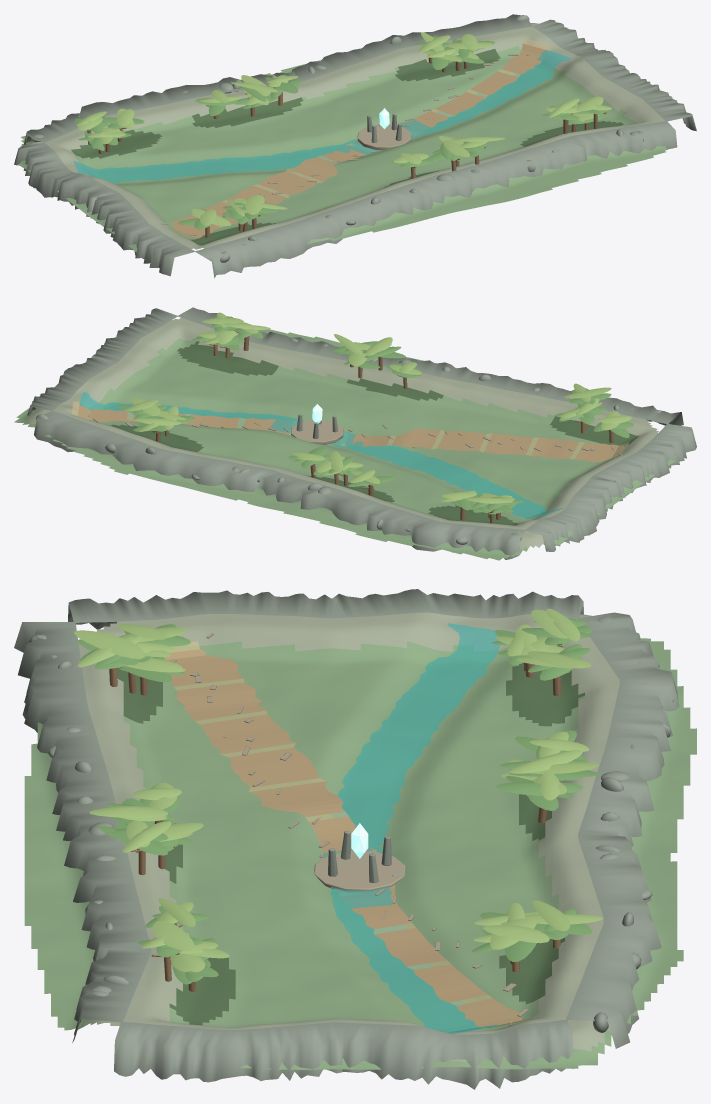
Rendered from moba_quality_chunk.glb.
3 renders of one model, top to bottom at view 1: azimuth 30°, elevation 25°; view 2: azimuth 150°, elevation 25°; view 3: azimuth 270°, elevation 25°, orthographic. The views are drawn at different scales.
Visible parts, largest first — view 1: authored_sculpted_terrain_continuous, authored_south_sculpted_cliff_wall, authored_west_sculpted_cliff_wall, authored_river_shallow_transparent_ribbon, authored_lane_worn_designed_ribbon, authored_north_sculpted_cliff_wall, authored_east_sculpted_cliff_wall, authored_central_objective_carved_base; view 2: authored_sculpted_terrain_continuous, authored_north_sculpted_cliff_wall, authored_lane_worn_designed_ribbon, authored_west_sculpted_cliff_wall, authored_south_sculpted_cliff_wall, authored_river_shallow_transparent_ribbon, authored_east_sculpted_cliff_wall, authored_central_objective_carved_base; view 3: authored_sculpted_terrain_continuous, authored_north_sculpted_cliff_wall, authored_east_sculpted_cliff_wall, authored_south_sculpted_cliff_wall, authored_lane_worn_designed_ribbon, authored_river_shallow_transparent_ribbon, authored_west_sculpted_cliff_wall, authored_central_objective_carved_base, authored_tree_sculpted_leaf_plate.079, authored_tree_sculpted_leaf_plate.119, authored_tree_sculpted_leaf_plate.034, authored_tree_sculpted_leaf_plate.059 (+1 smaller).
Part boxes in pixels (box(x1,y1,x2,y2)): authored_sculpted_terrain_continuous: box(18, 23, 667, 252); authored_south_sculpted_cliff_wall: box(195, 121, 677, 278); authored_west_sculpted_cliff_wall: box(14, 143, 194, 276); authored_river_shallow_transparent_ribbon: box(73, 50, 570, 182); authored_lane_worn_designed_ribbon: box(171, 38, 550, 238); authored_north_sculpted_cliff_wall: box(24, 14, 532, 144); authored_east_sculpted_cliff_wall: box(532, 19, 696, 131); authored_central_objective_carved_base: box(357, 124, 411, 150); authored_sculpted_terrain_continuous: box(14, 317, 675, 560); authored_north_sculpted_cliff_wall: box(34, 410, 524, 559); authored_lane_worn_designed_ribbon: box(71, 401, 628, 462); authored_west_sculpted_cliff_wall: box(525, 424, 696, 551); authored_south_sculpted_cliff_wall: box(178, 307, 683, 425); authored_river_shallow_transparent_ribbon: box(79, 392, 563, 518); authored_east_sculpted_cliff_wall: box(27, 308, 177, 415); authored_central_objective_carved_base: box(291, 419, 343, 444); authored_sculpted_terrain_continuous: box(24, 612, 696, 1069); authored_north_sculpted_cliff_wall: box(566, 612, 679, 1048); authored_east_sculpted_cliff_wall: box(114, 1020, 573, 1089); authored_south_sculpted_cliff_wall: box(14, 622, 151, 1042); authored_lane_worn_designed_ribbon: box(164, 641, 538, 1028); authored_river_shallow_transparent_ribbon: box(323, 623, 499, 1033); authored_west_sculpted_cliff_wall: box(68, 589, 583, 629); authored_central_objective_carved_base: box(314, 850, 405, 891); authored_tree_sculpted_leaf_plate.079: box(74, 630, 144, 658); authored_tree_sculpted_leaf_plate.119: box(152, 920, 194, 950); authored_tree_sculpted_leaf_plate.034: box(510, 750, 582, 773); authored_tree_sculpted_leaf_plate.059: box(483, 925, 549, 943).
Size of the model in its own units: 56.2 by 4.58 by 34.84.
